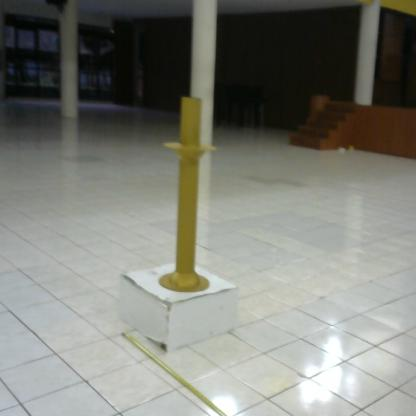pole: (158, 94, 221, 298)
